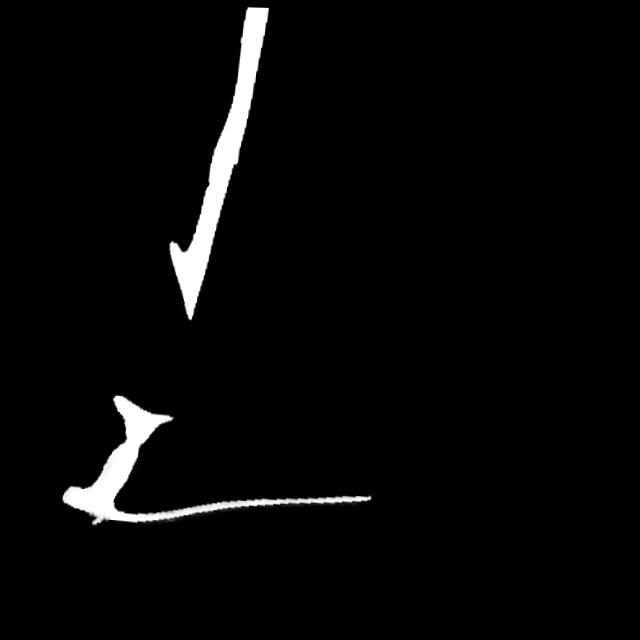sup_pli: (90, 507, 110, 534)
